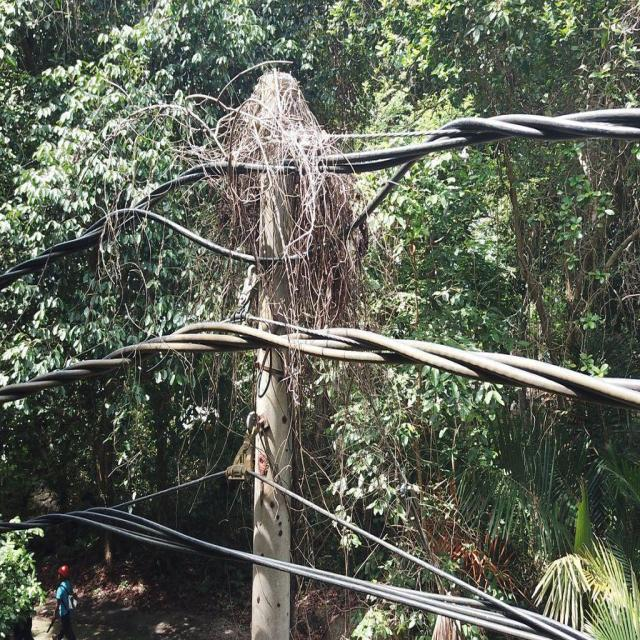critical vegetation: (150, 48, 363, 487)
